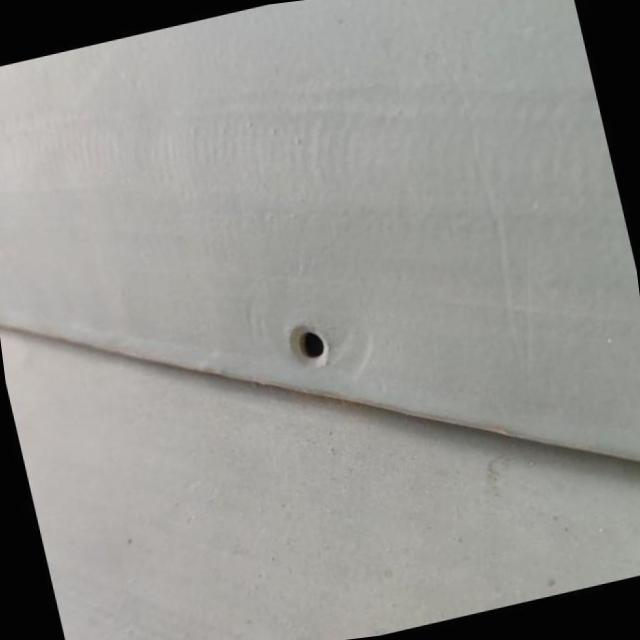Missing Fastener: (286, 316, 338, 372)
